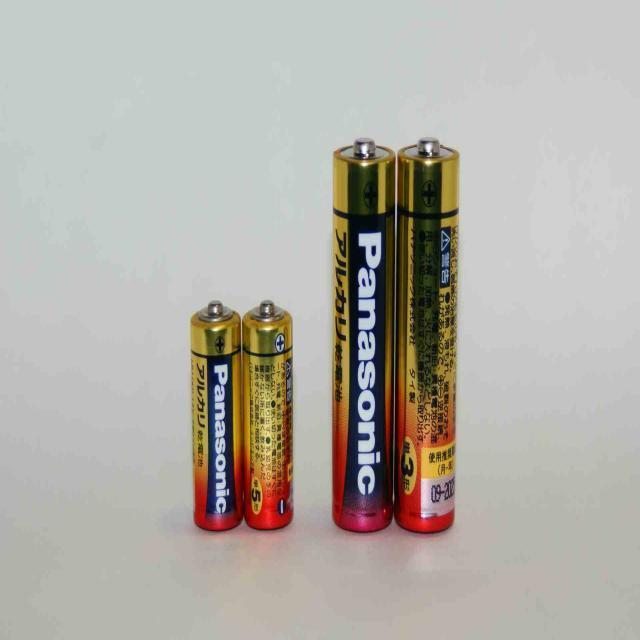Hazard: (390, 137, 466, 536), (328, 135, 400, 537), (185, 302, 244, 532), (244, 300, 298, 531)
